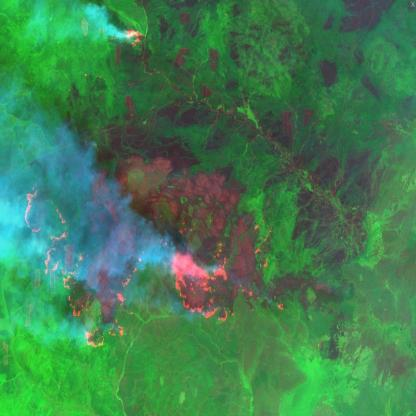fire: (21, 172, 302, 373), (124, 25, 158, 52)
